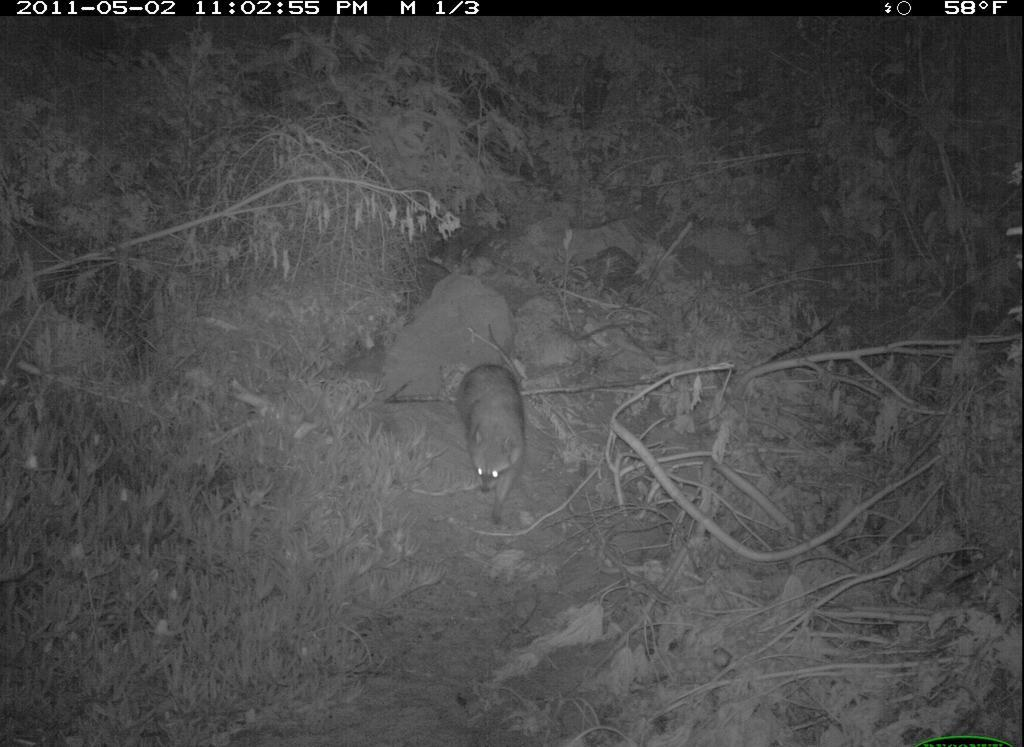raccoon: (456, 360, 530, 524)
